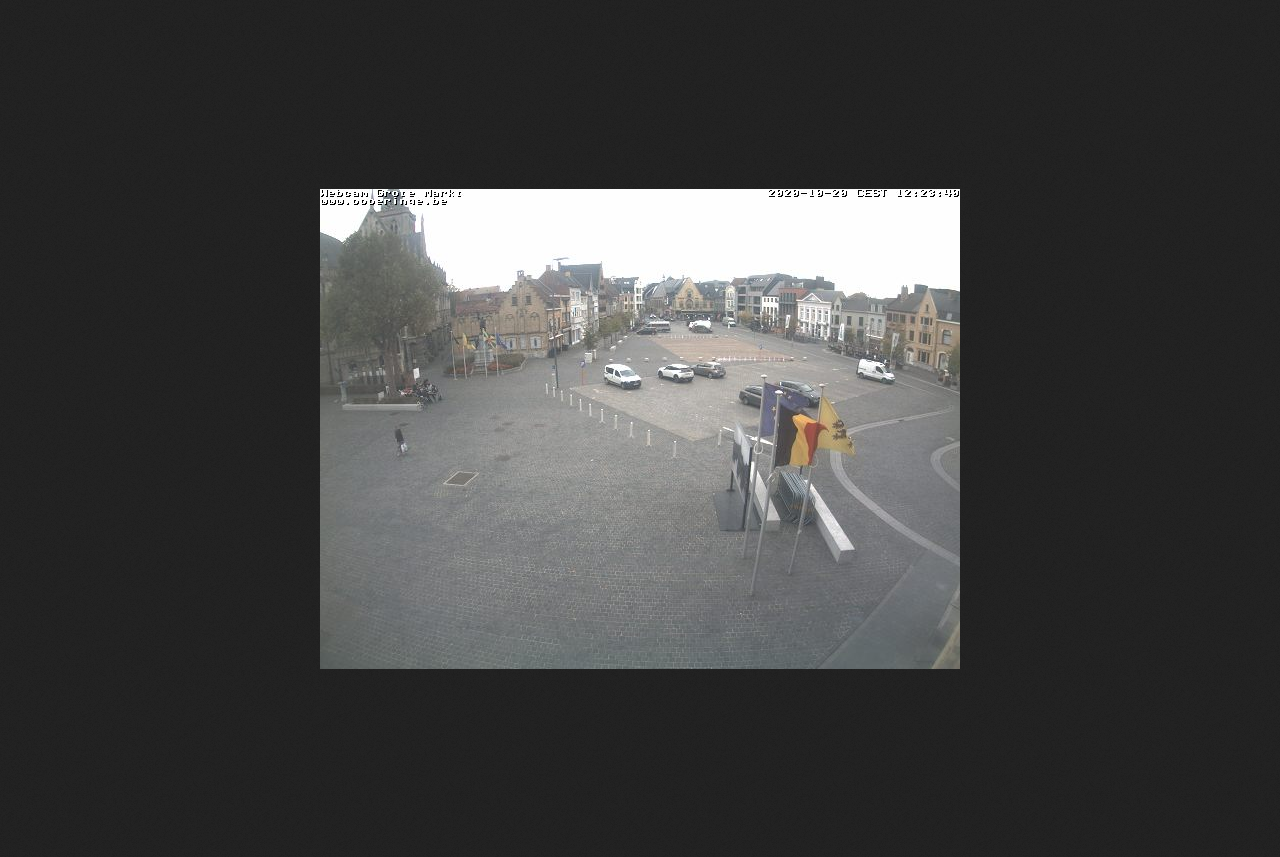yes: (773, 404, 826, 476), (761, 380, 807, 450), (818, 399, 856, 459)
